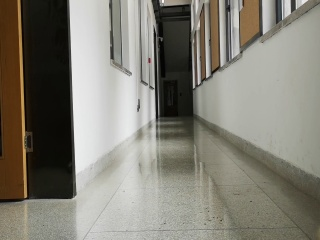room: (1, 3, 82, 206)
